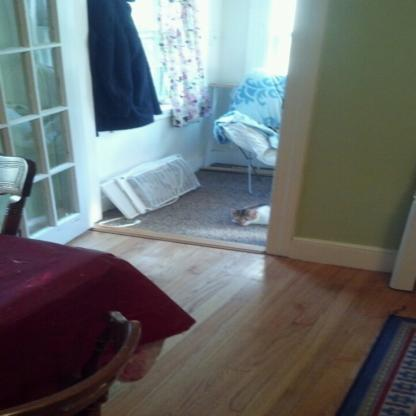Target: (228, 198, 273, 232)
